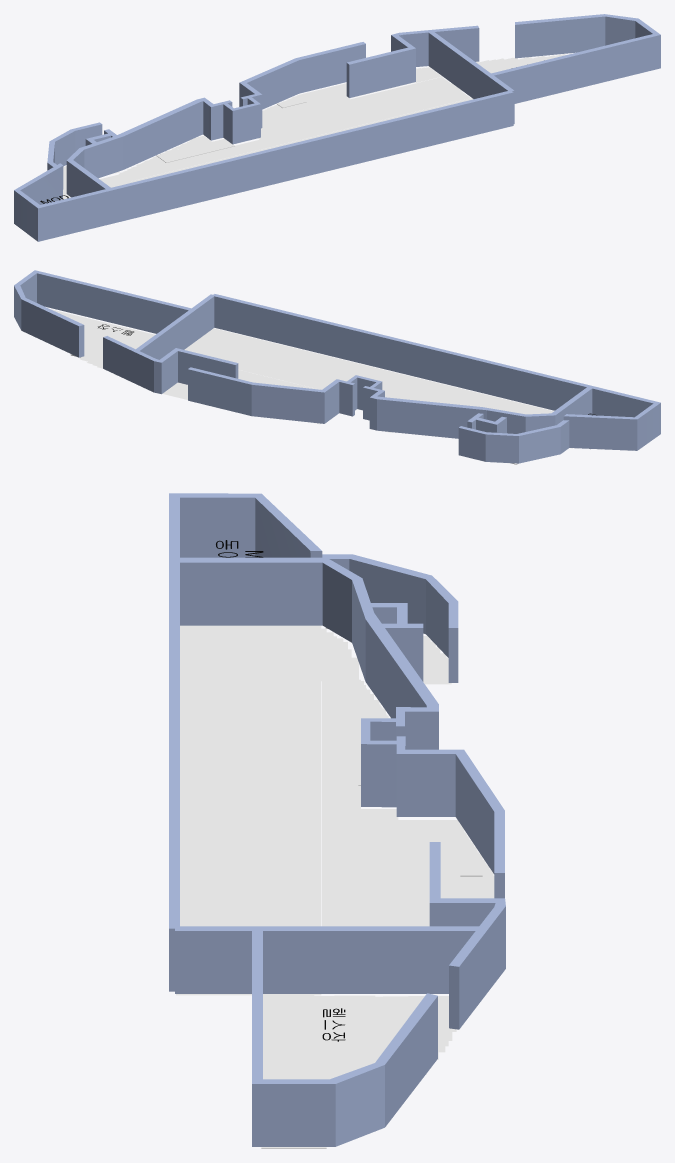
Rendered from B2floor.glb.
3 views of the same model, one above another, from view 1: azimuth 30°, elevation 25°; view 2: azimuth 150°, elevation 25°; view 3: azimuth 270°, elevation 25° (orthographic). The views are drawn at different scales.
Visible parts, largest first — view 1: Layer:0, Box056, Box088, Box089, Box091, Box053, Box059, Box090; view 2: Layer:0, Box053, Box054, Box056; view 3: Layer:0, Box053, Box056, Box054, Box088, Box089, Box114, Box090, Box055, Box131, Box113.
Boxes of the visible parts, x1,y1,x2,y2 form: Layer:0: [14, 14, 660, 241]; Box056: [119, 91, 470, 181]; Box088: [258, 83, 461, 139]; Box089: [261, 93, 358, 129]; Box091: [351, 77, 450, 106]; Box053: [70, 98, 473, 197]; Box059: [156, 138, 234, 162]; Box090: [297, 82, 414, 101]; Layer:0: [14, 270, 660, 463]; Box053: [184, 328, 553, 414]; Box054: [51, 309, 155, 346]; Box056: [238, 370, 318, 389]; Layer:0: [169, 493, 505, 1146]; Box053: [176, 625, 321, 995]; Box056: [322, 679, 360, 926]; Box054: [261, 997, 326, 1148]; Box088: [358, 809, 398, 926]; Box089: [397, 820, 464, 909]; Box114: [334, 995, 375, 1076]; Box090: [440, 876, 494, 898]; Box055: [323, 642, 347, 688]; Box131: [383, 996, 409, 1051]; Box113: [310, 996, 336, 1079].
Bounding box in the file's own units: 3.79 × 0.2034 × 0.9136.
